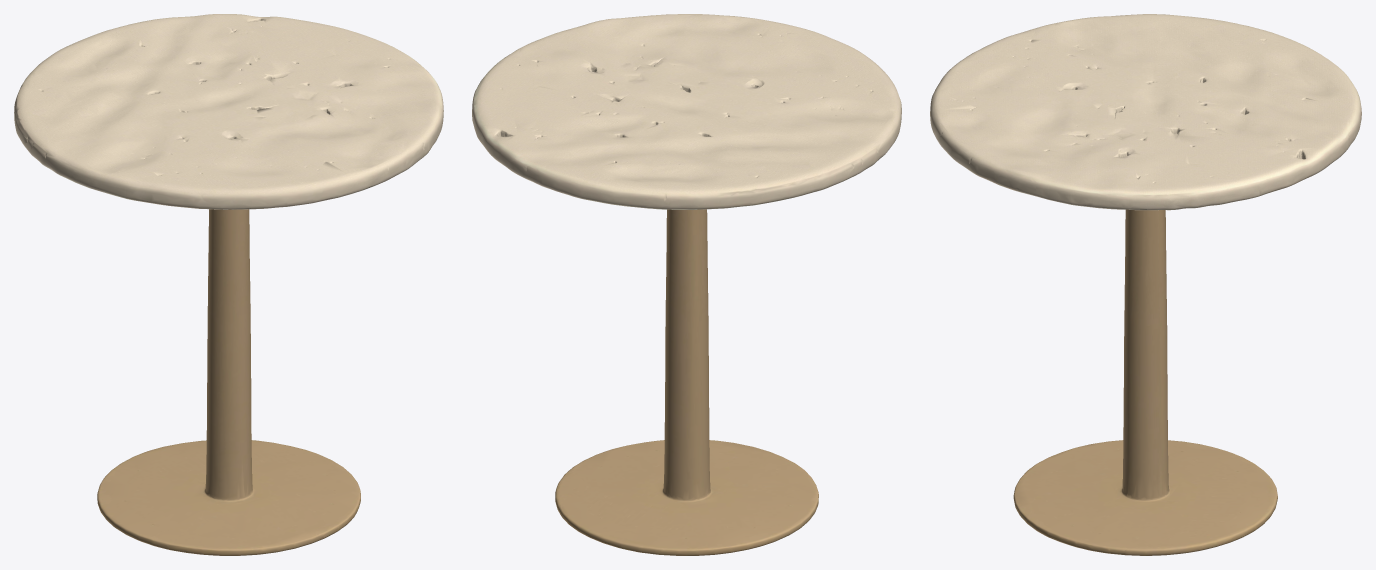
Rendered from cafetable.glb.
3 renders of one model, left to right at view 1: azimuth 30°, elevation 25°; view 2: azimuth 150°, elevation 25°; view 3: azimuth 270°, elevation 25°, orthographic.
Parts seen in each view (by area): view 1: tripo_node_3c3d4659-8a66-43ce-8b4d-4d35e86db970; view 2: tripo_node_3c3d4659-8a66-43ce-8b4d-4d35e86db970; view 3: tripo_node_3c3d4659-8a66-43ce-8b4d-4d35e86db970.
Boxes of the visible parts, box(x1,y1,x2,y2) form: tripo_node_3c3d4659-8a66-43ce-8b4d-4d35e86db970: box(14, 14, 443, 555); tripo_node_3c3d4659-8a66-43ce-8b4d-4d35e86db970: box(472, 14, 901, 555); tripo_node_3c3d4659-8a66-43ce-8b4d-4d35e86db970: box(930, 14, 1361, 555).
Size of the model in its own units: 0.636 by 0.6499 by 0.6353.
1 material, 1 textured.
